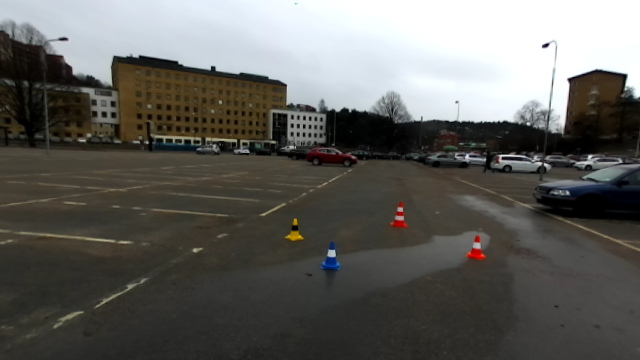blue: (317, 240, 343, 270)
orange: (464, 233, 486, 260)
orange2: (391, 198, 407, 228)
yellow: (285, 217, 305, 243)
